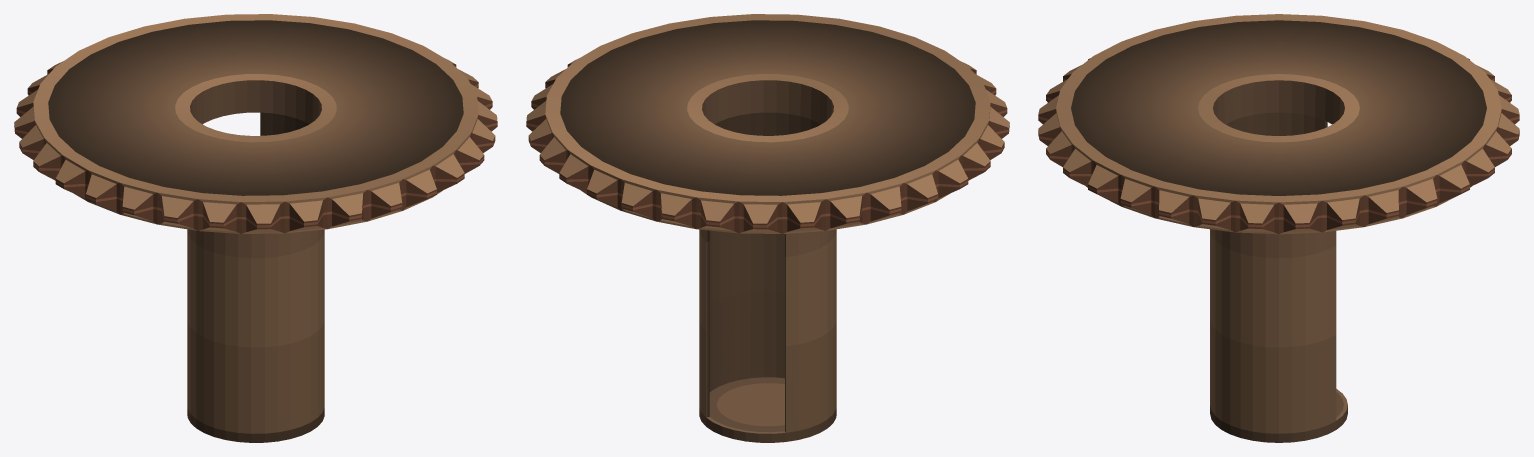
File: ScrewItElevator.fbx
3 renders of one model, left to right at view 1: azimuth 30°, elevation 25°; view 2: azimuth 150°, elevation 25°; view 3: azimuth 270°, elevation 25°, orthographic.
Parts seen in each view (by area): view 1: Cylinder.012; view 2: Cylinder.012; view 3: Cylinder.012.
Part boxes in pixels (x1,y1,x2,y2): Cylinder.012: (14,14,497,442); Cylinder.012: (526,14,1009,442); Cylinder.012: (1038,14,1519,442).
Bounding box in the file's own units: 16.89 × 11.83 × 16.89.
